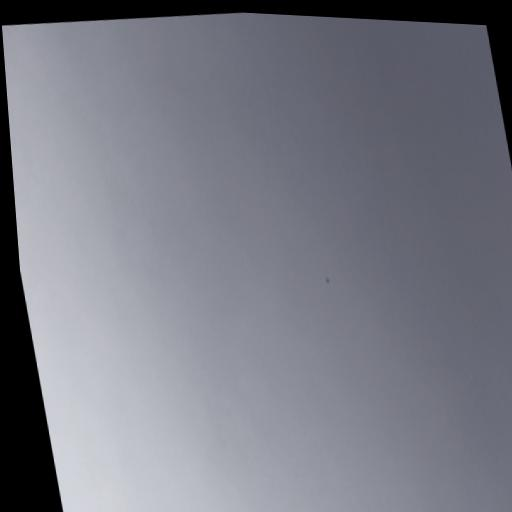drones: (324, 276, 331, 285)
